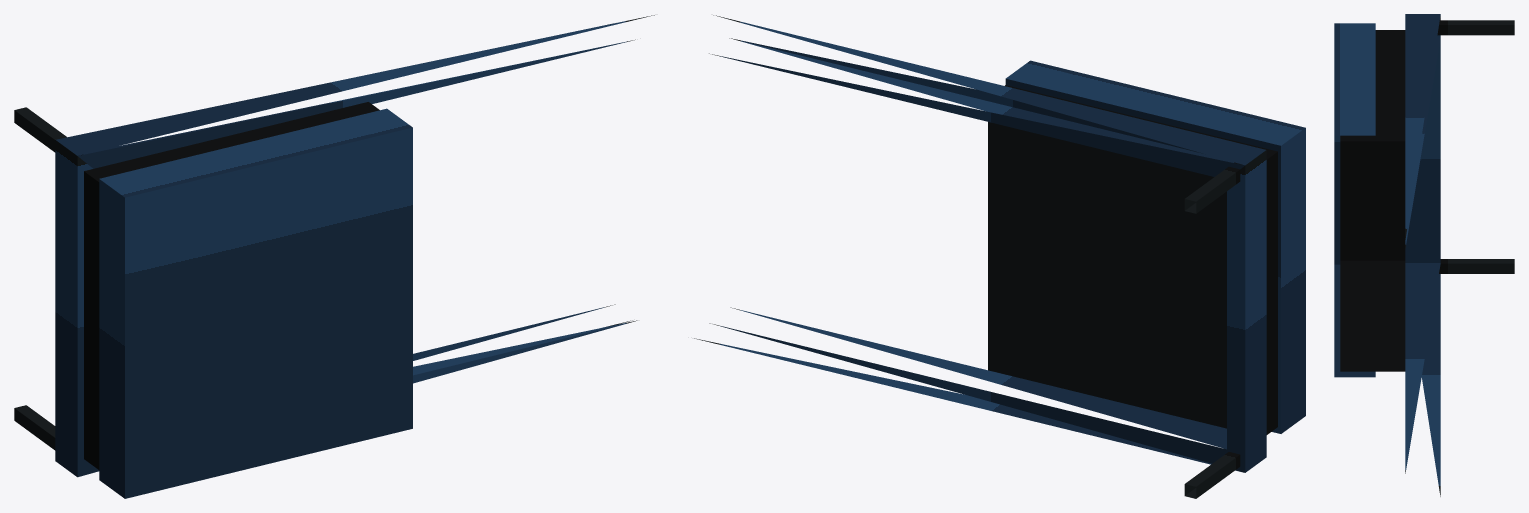
3 renders of one model, left to right at view 1: azimuth 30°, elevation 25°; view 2: azimuth 150°, elevation 25°; view 3: azimuth 270°, elevation 25°, orthographic. The views are drawn at different scales.
Bounding box in the file's own units: 1.82 × 0.96 × 0.61.
